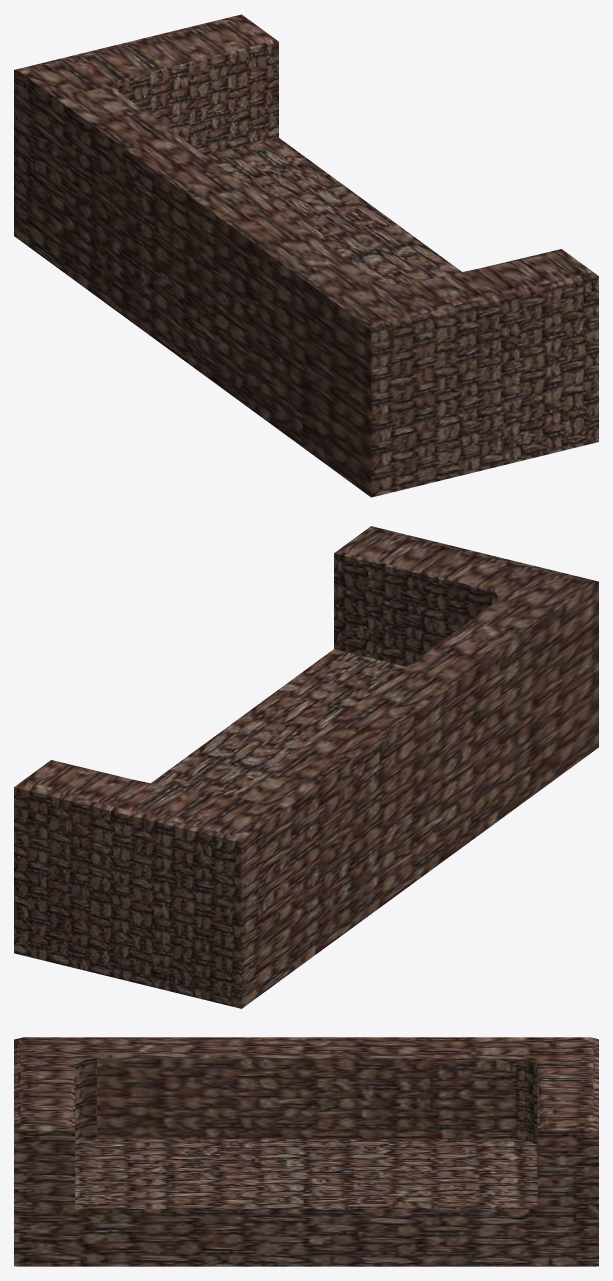
The model's file is bank.fbx.
3 renders of one model, top to bottom at view 1: azimuth 30°, elevation 25°; view 2: azimuth 150°, elevation 25°; view 3: azimuth 270°, elevation 25°, orthographic. The views are drawn at different scales.
Visible parts, largest first — view 1: Cube; view 2: Cube; view 3: Cube.
Part boxes in pixels (x1,y1,x2,y2): Cube: (14,14,598,497); Cube: (14,526,598,1008); Cube: (14,1037,598,1266).
Bounding box in the file's own units: 240 × 172 × 652.
Materials: 1 (1 with a texture image).
